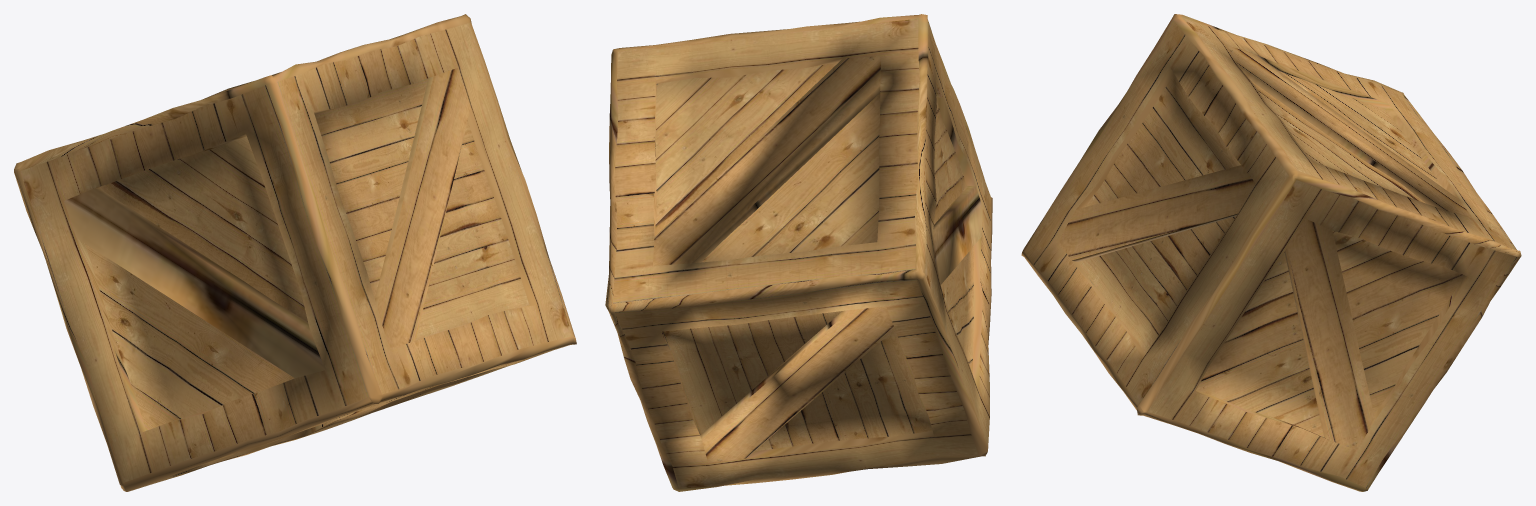
Rendered from kuutio(1).fbx.
3 renders of one model, left to right at view 1: azimuth 30°, elevation 25°; view 2: azimuth 150°, elevation 25°; view 3: azimuth 270°, elevation 25°, orthographic. The views are drawn at different scales.
Parts seen in each view (by area): view 1: Cube; view 2: Cube; view 3: Cube.
Part boxes in pixels (x1=…): Cube: x1=14, y1=14, x2=576, y2=491; Cube: x1=605, y1=14, x2=992, y2=491; Cube: x1=1021, y1=14, x2=1521, y2=491.
Bounding box in the file's own units: 291 × 316 × 348.
